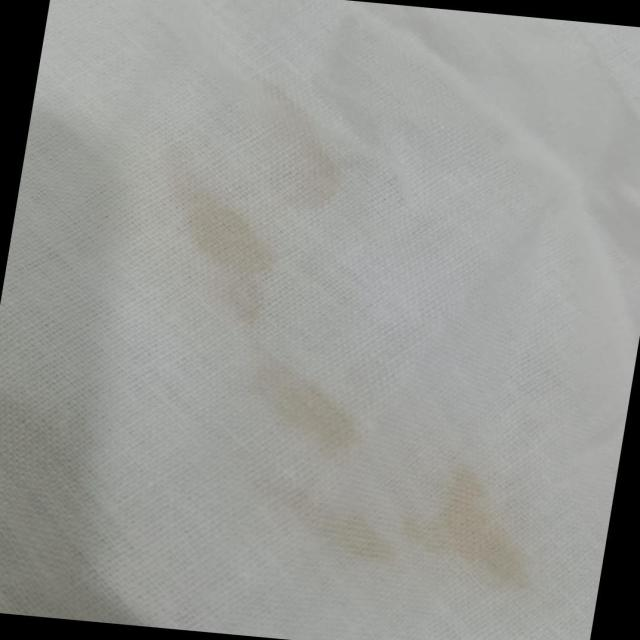stain: (197, 344, 576, 602), (122, 64, 362, 332)
